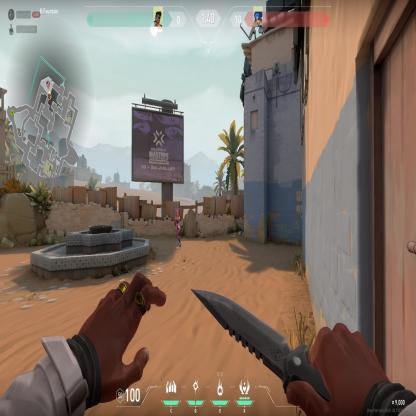enemy: (173, 207, 183, 250)
